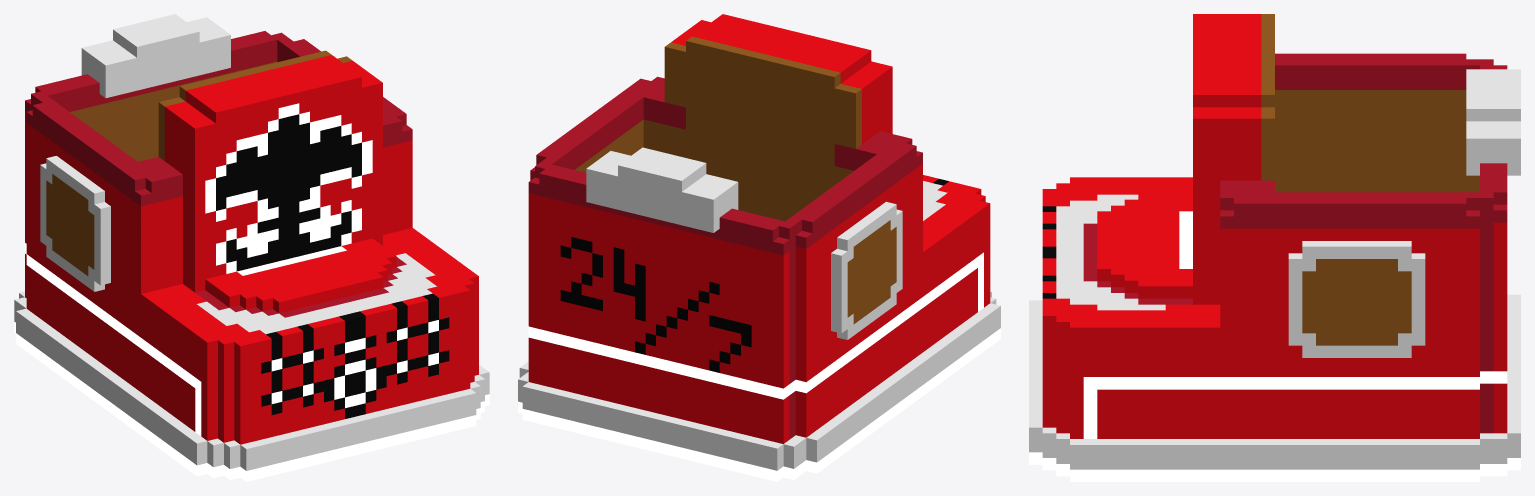
The model's file is asset.glb.
The picture shows the model from 3 angles, left to right: view 1: azimuth 30°, elevation 25°; view 2: azimuth 150°, elevation 25°; view 3: azimuth 270°, elevation 25°; orthographic projection. The views are drawn at different scales.
Visible parts, largest first — view 1: A SSV SVGE-3, A SSV SVGE-1, A SSV SVGE-0, A SSV SVGE-2, A SSV SVGE-5, A SSV SVGE-4; view 2: A SSV SVGE-3, A SSV SVGE-4, A SSV SVGE-1, A SSV SVGE-5, A SSV SVGE-2, A SSV SVGE-0; view 3: A SSV SVGE-3, A SSV SVGE-1, A SSV SVGE-4, A SSV SVGE-5, A SSV SVGE-2, A SSV SVGE-0.
Part boxes in pixels (box(x1,y1,x2,y2)): A SSV SVGE-3: box(25, 55, 478, 444); A SSV SVGE-1: box(14, 14, 489, 470); A SSV SVGE-0: box(216, 114, 449, 418); A SSV SVGE-2: box(14, 103, 489, 481); A SSV SVGE-5: box(25, 31, 412, 317); A SSV SVGE-4: box(46, 50, 352, 275); A SSV SVGE-3: box(528, 14, 990, 443); A SSV SVGE-4: box(575, 36, 896, 324); A SSV SVGE-1: box(518, 147, 1000, 470); A SSV SVGE-5: box(528, 76, 922, 439); A SSV SVGE-2: box(518, 252, 1000, 481); A SSV SVGE-0: box(560, 179, 948, 372); A SSV SVGE-3: box(1042, 14, 1507, 438); A SSV SVGE-1: box(1029, 69, 1520, 469); A SSV SVGE-4: box(1261, 14, 1479, 345); A SSV SVGE-5: box(1083, 53, 1507, 433); A SSV SVGE-2: box(1029, 211, 1520, 481); A SSV SVGE-0: box(1042, 206, 1056, 298).
Size of the model in its own units: 2.8 by 2.8 by 3.6.
Materials: 6 (1 with a texture image).
